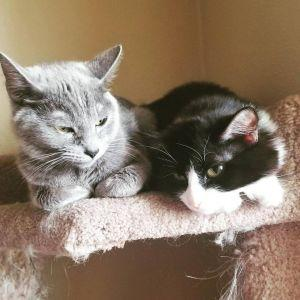rblue: (3, 41, 136, 187)
